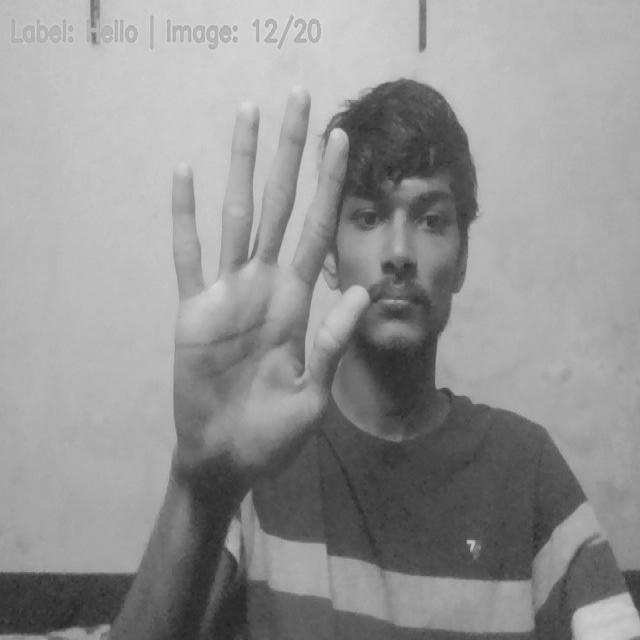Hello: (161, 83, 372, 486)
